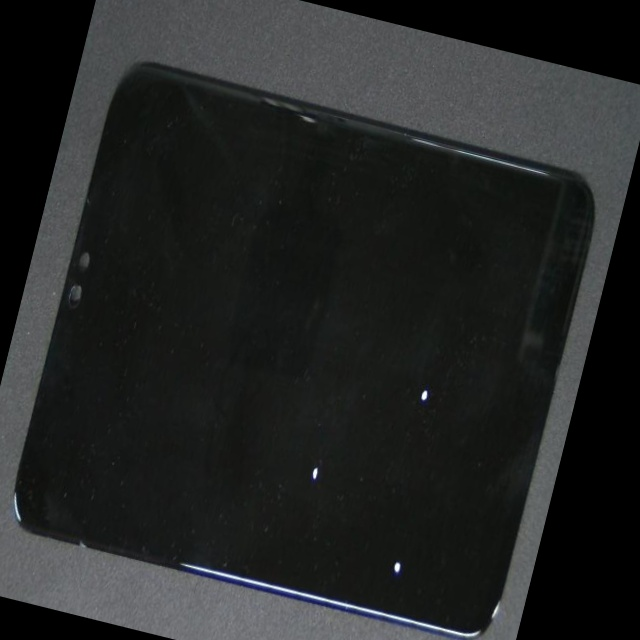stain: (153, 185, 607, 637), (108, 184, 524, 640), (130, 277, 584, 640)
